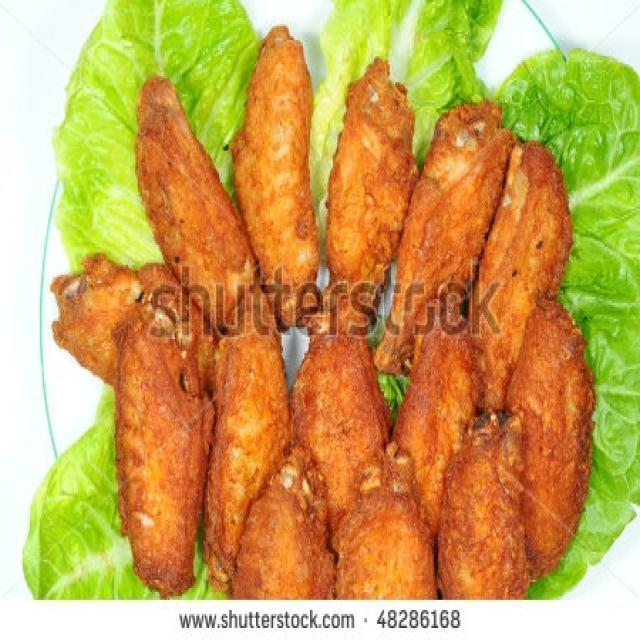Deep fried chicken wing: (65, 38, 593, 588)
